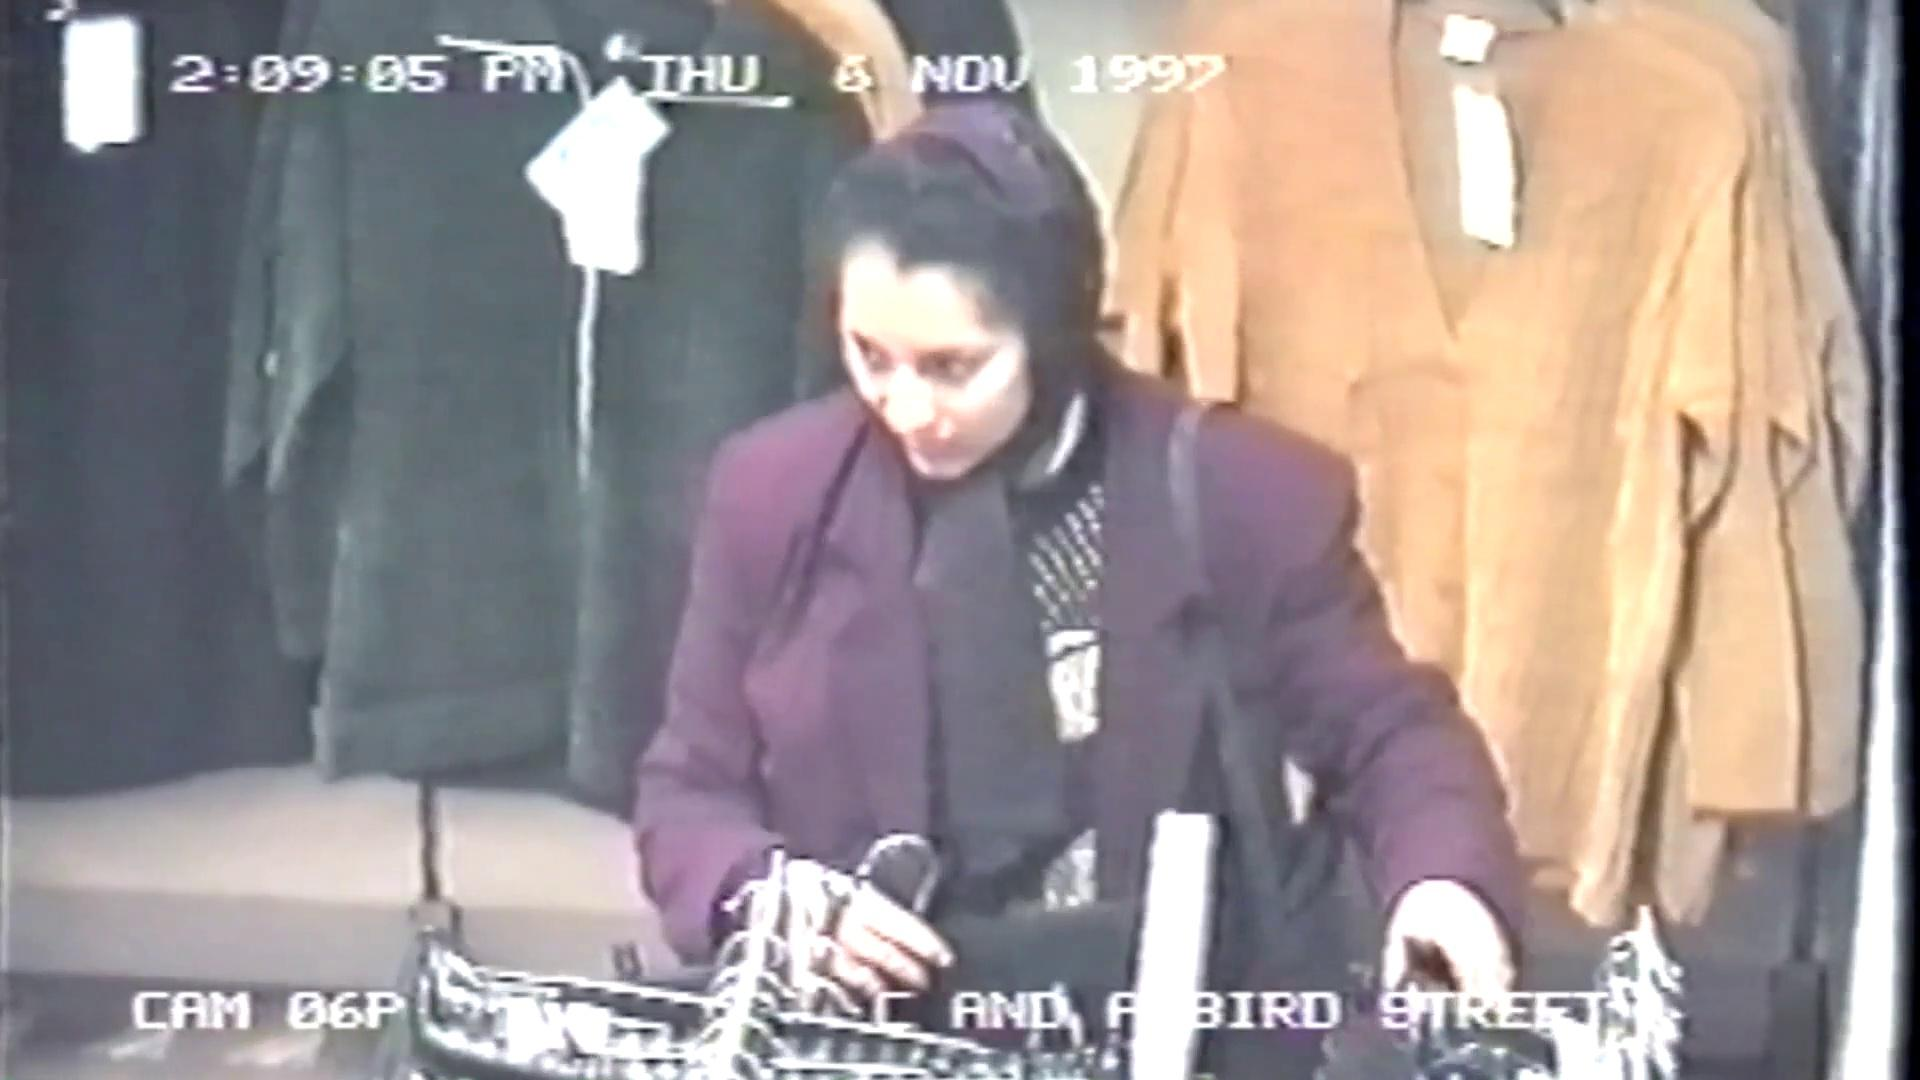1: (864, 885, 1158, 1034)
2: (419, 0, 1600, 1080)
persone: (1229, 803, 1414, 1044), (1563, 560, 1564, 560)
